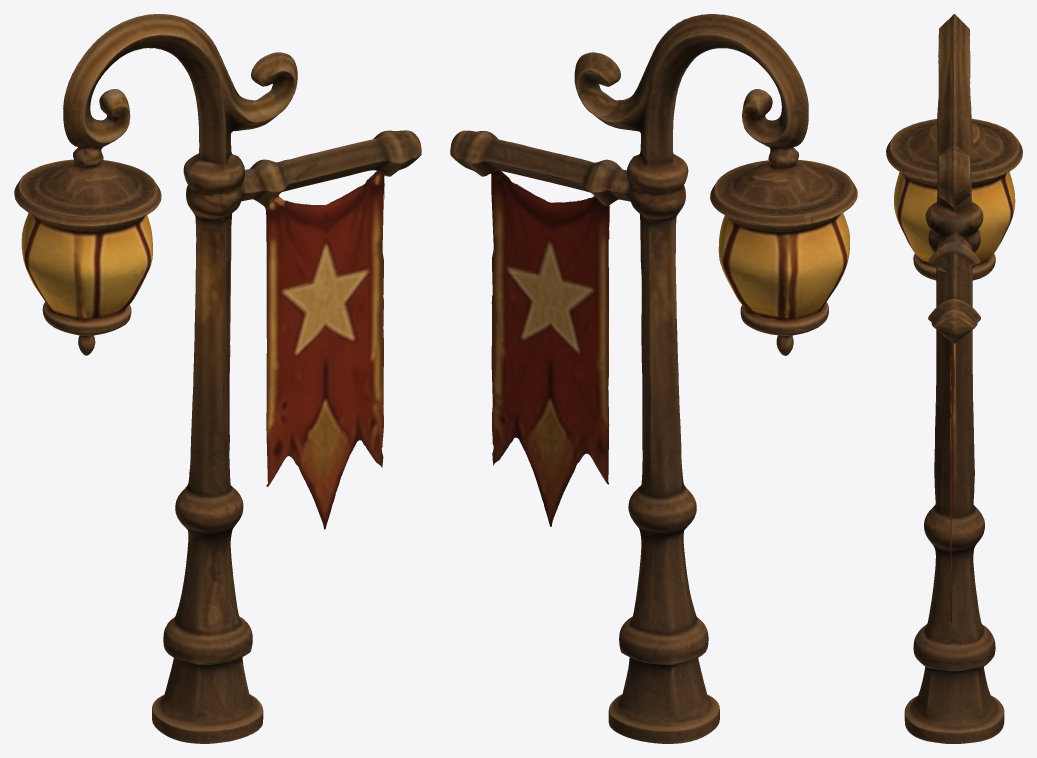
The model's file is farola.glb.
The picture shows the model from 3 angles, left to right: view 1: azimuth 30°, elevation 25°; view 2: azimuth 150°, elevation 25°; view 3: azimuth 270°, elevation 25°; orthographic projection. The views are drawn at different scales.
Bounding box in the file's own units: 1.09 × 1.9 × 0.3512.
Materials: 1 (1 with a texture image).
